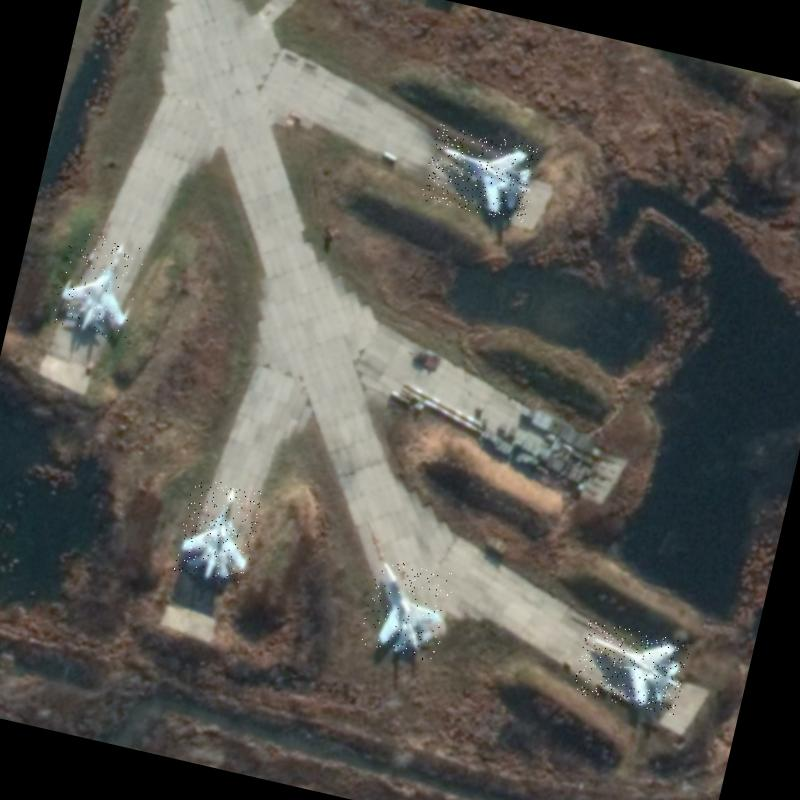A1: (420, 123, 540, 223), (572, 619, 691, 716), (50, 228, 146, 342), (358, 556, 456, 664)
A19: (172, 476, 265, 588)
